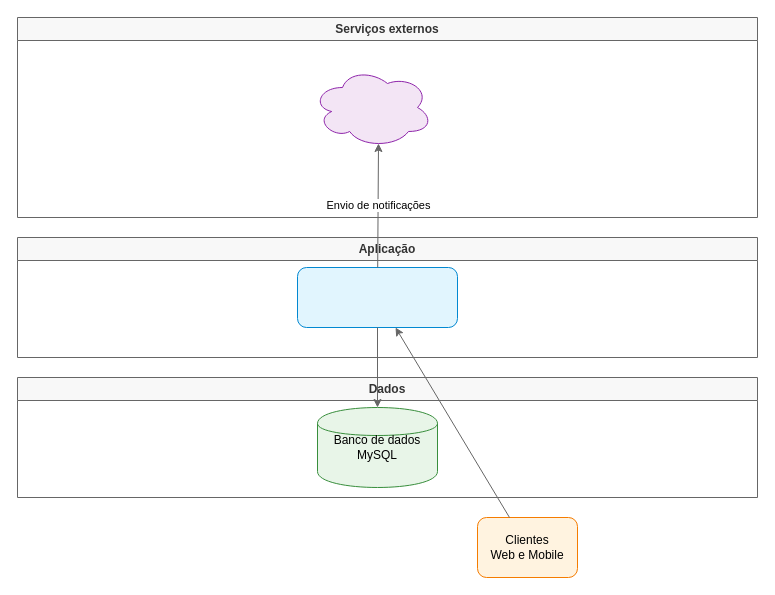
Some shapes in this 775 by 595 pixel diagram are drawn without their labels. Here are the shapes that lost their labels. From the top down, the centre of each, then its label:
the point at 372,107: Envio de emails SMTP
the point at 377,297: API de encomendas residenciais Java / Sping Boot
